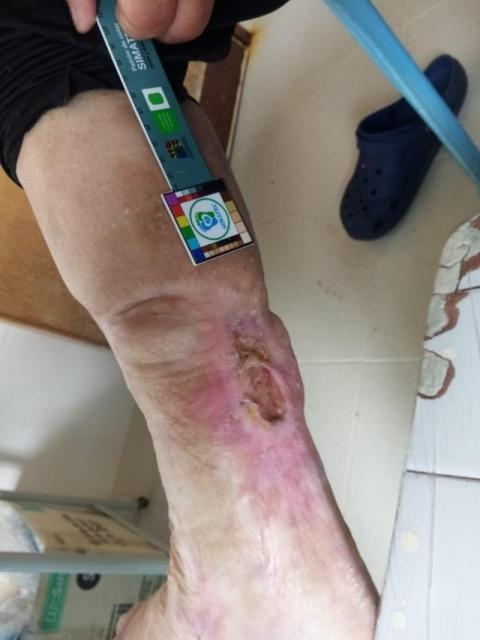wound: (233, 312, 290, 424)
